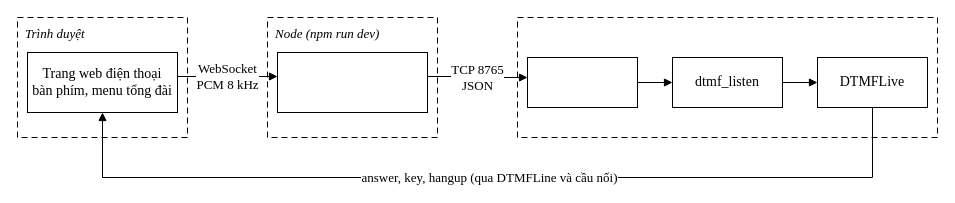
The diagram is 955 pixels wide and 203 high, and some of its shapes have lost their labels. The shapes that lost their labels are listed below. From the top down, each one's box as (x1, y1, x2, y2) in pixels, then its label:
(276, 52, 428, 112): Cầu nối web/server/line.ts
(526, 56, 638, 108): DTMFLine
(516, 16, 938, 138): MATLAB
